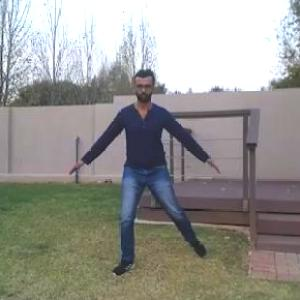land: (84, 70, 204, 278)
